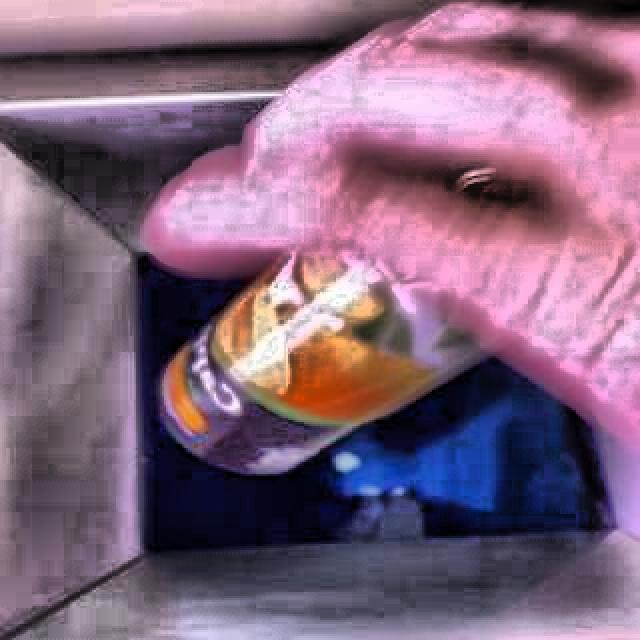metal: (160, 254, 485, 475)
